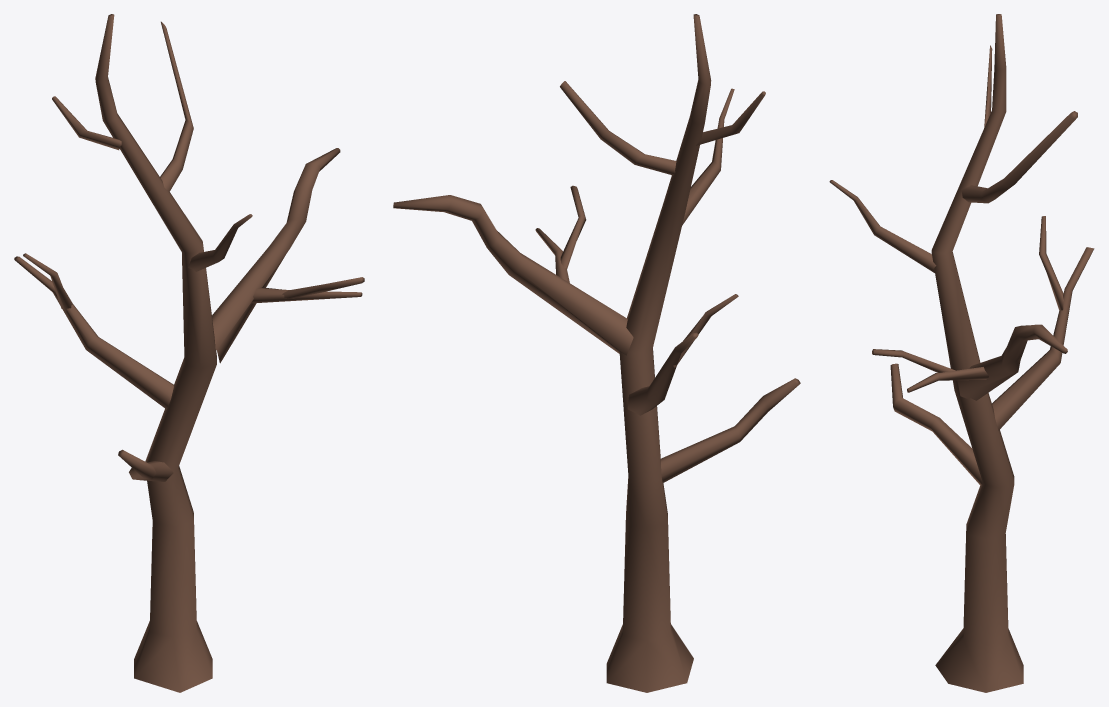
The model's file is Tree.glb.
3 renders of one model, left to right at view 1: azimuth 30°, elevation 25°; view 2: azimuth 150°, elevation 25°; view 3: azimuth 270°, elevation 25°, orthographic. The views are drawn at different scales.
Visible parts, largest first — view 1: Tree; view 2: Tree; view 3: Tree.
Boxes of the visible parts, x1=… form: Tree: x1=14, y1=14, x2=364, y2=692; Tree: x1=393, y1=14, x2=800, y2=692; Tree: x1=829, y1=14, x2=1094, y2=692.
Bounding box in the file's own units: 2.33 × 4.51 × 1.71.
